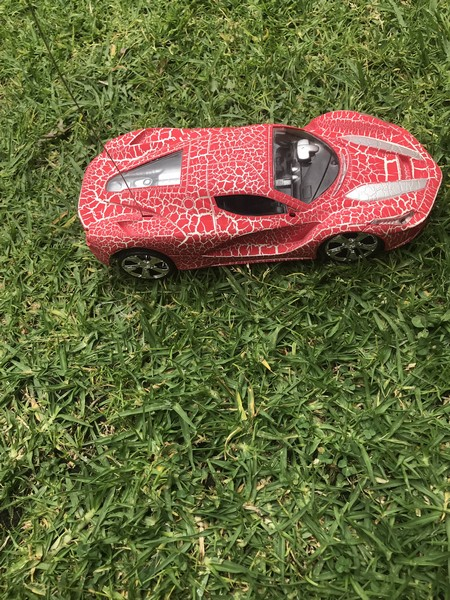RC: (74, 109, 445, 283)
